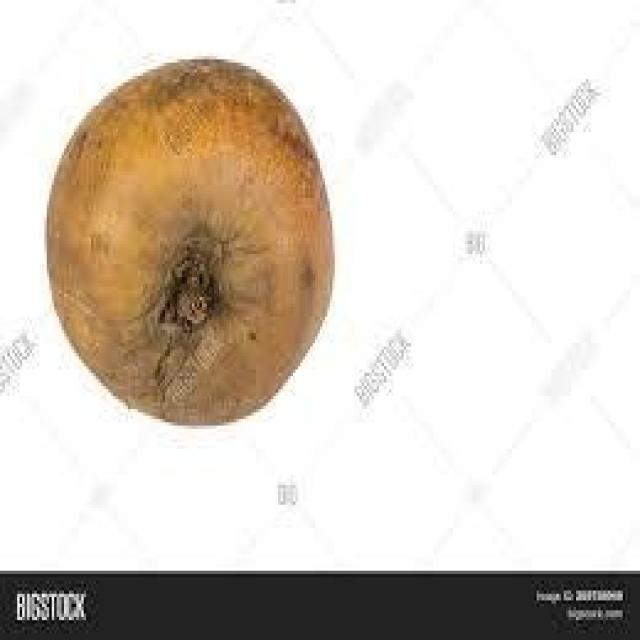maca: (44, 52, 335, 426)
